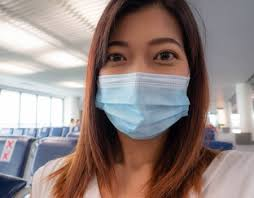with-mask: (91, 2, 198, 141)
